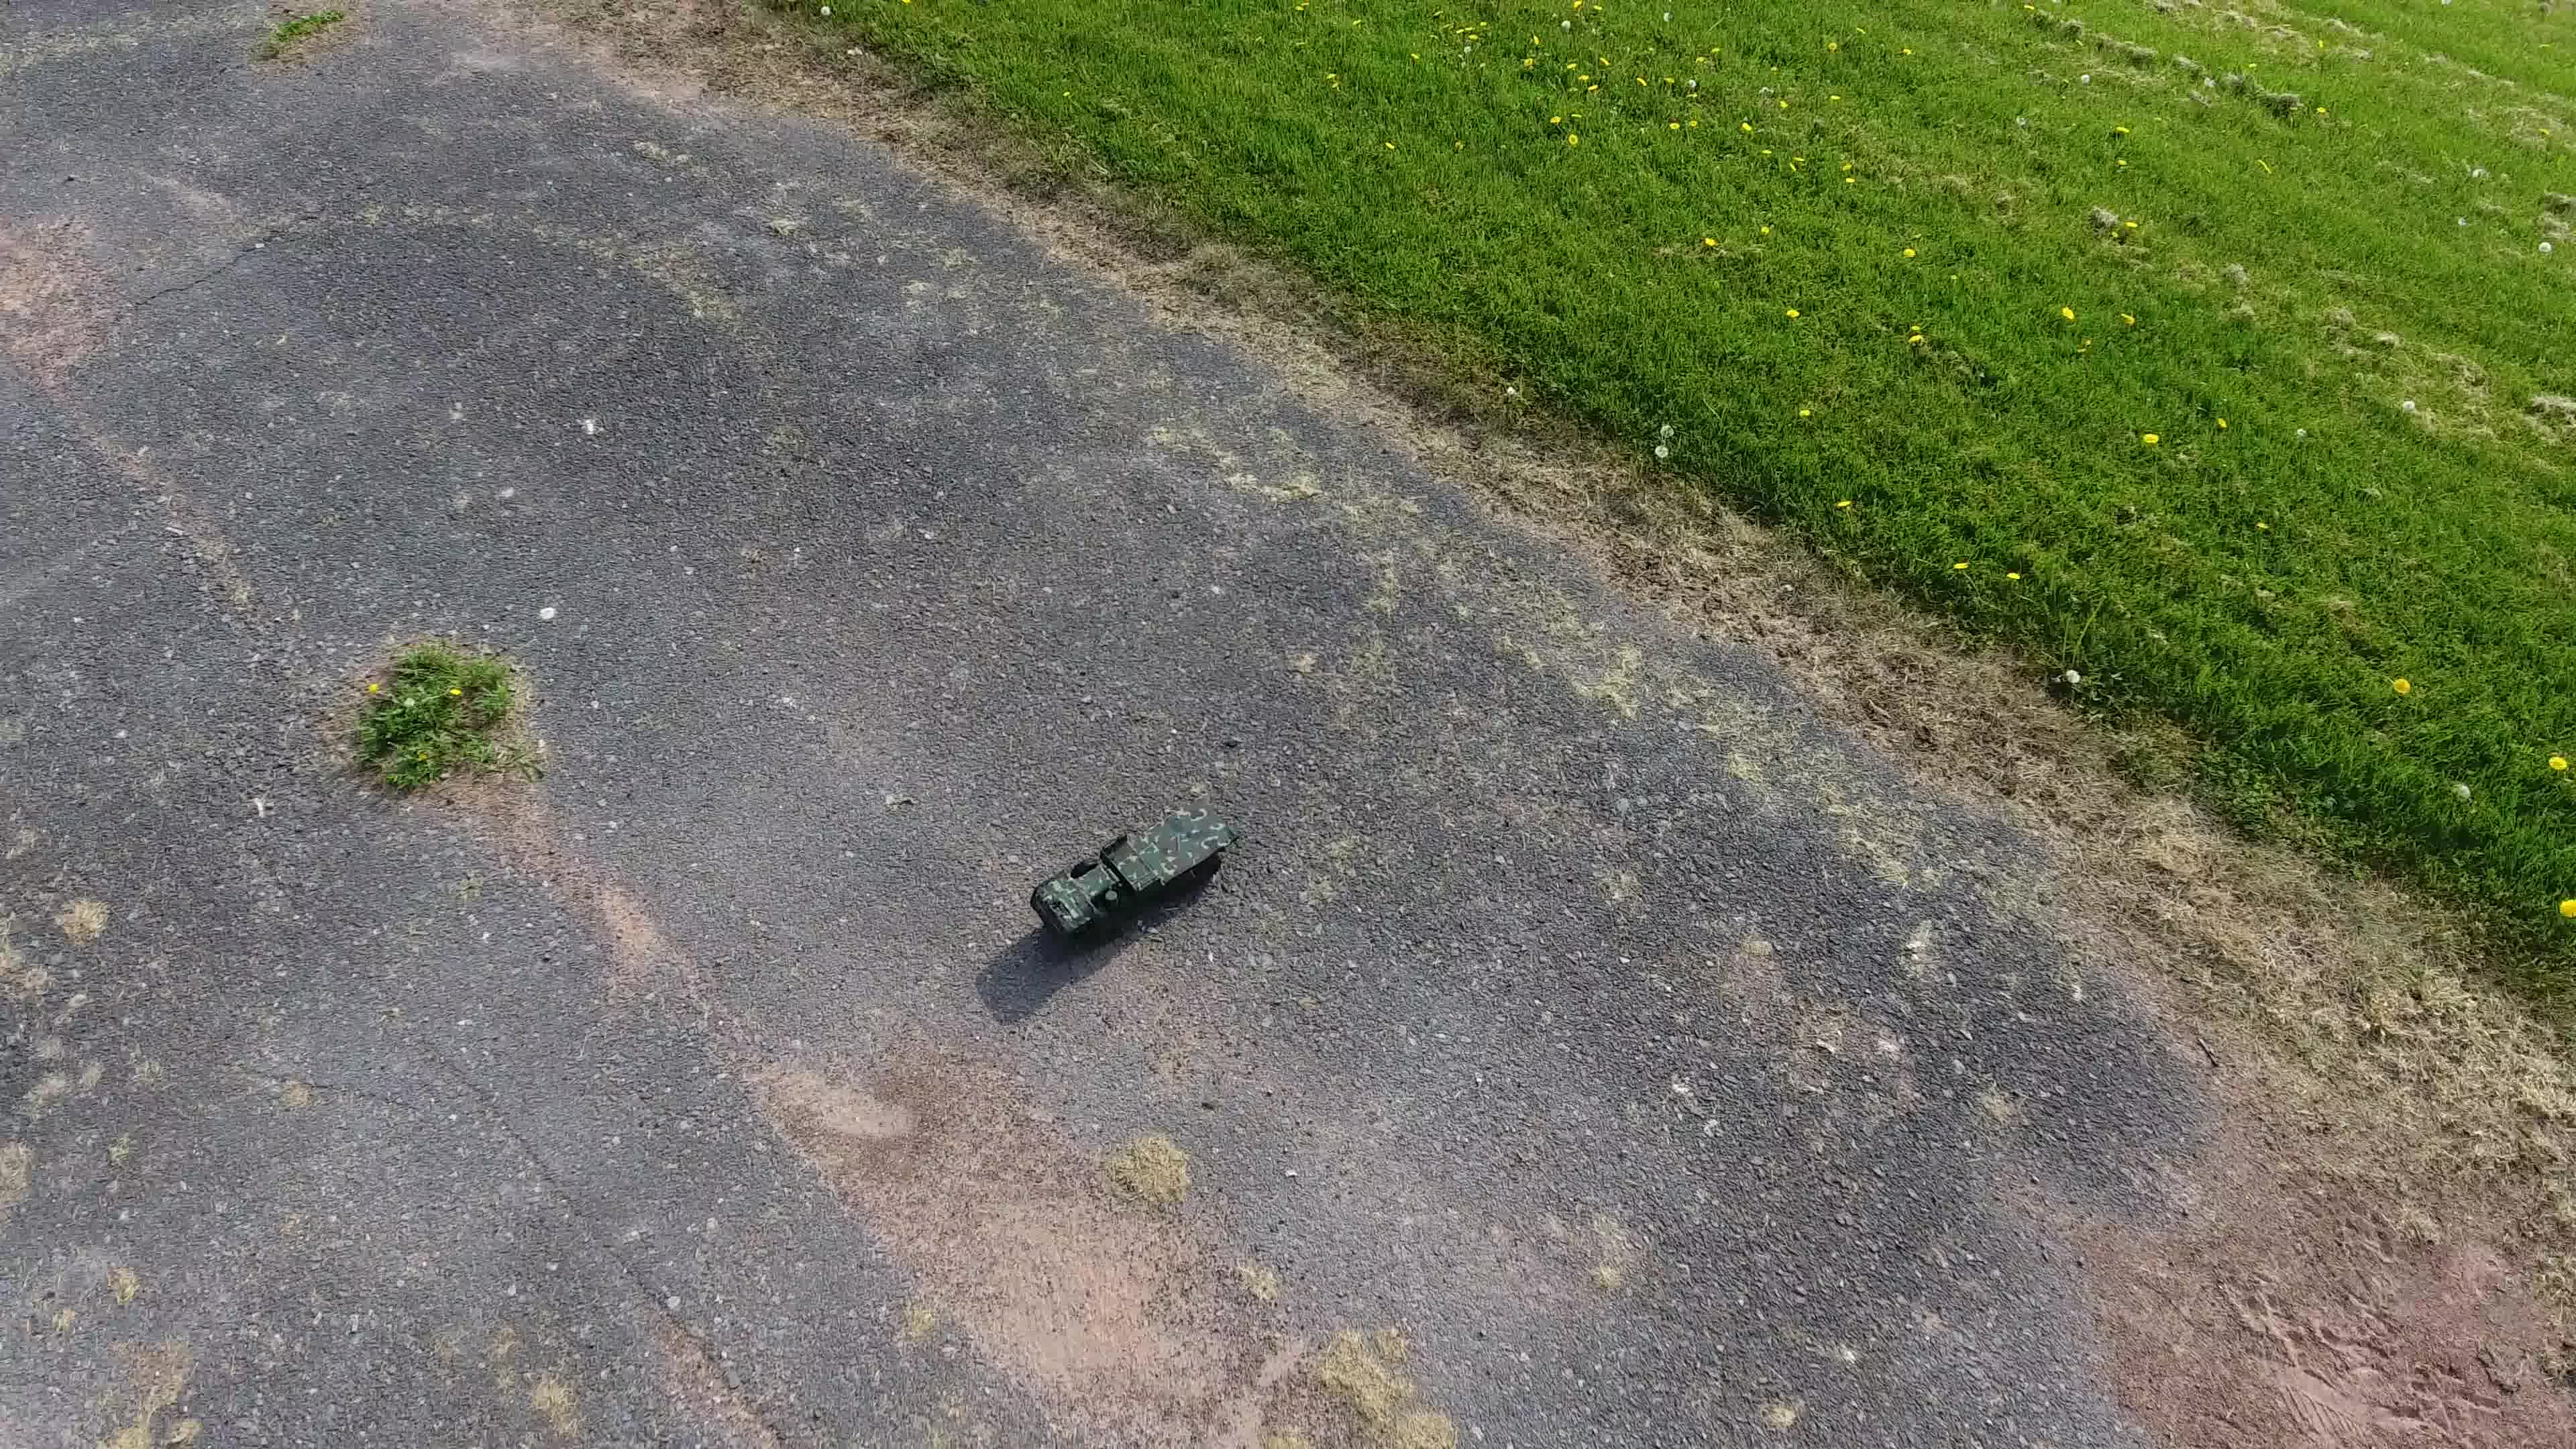transporter9_camo: (1024, 793, 1238, 950)
